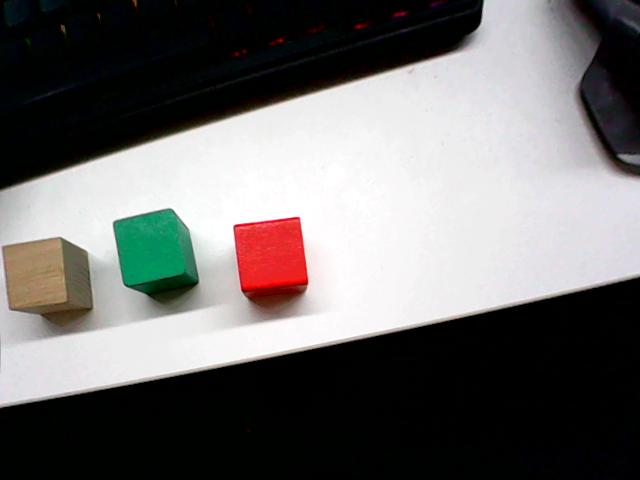green_box: (110, 204, 200, 298)
raw_box: (0, 233, 96, 323)
red_box: (230, 212, 312, 300)
